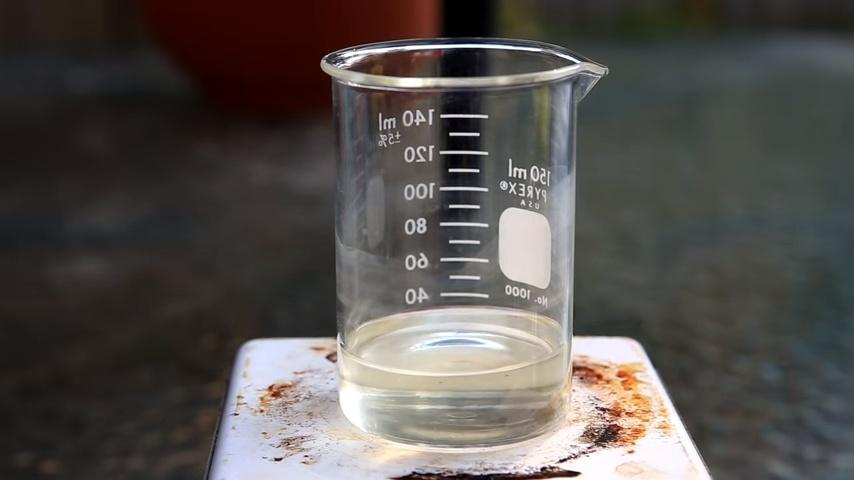Beaker: (310, 42, 609, 443)
